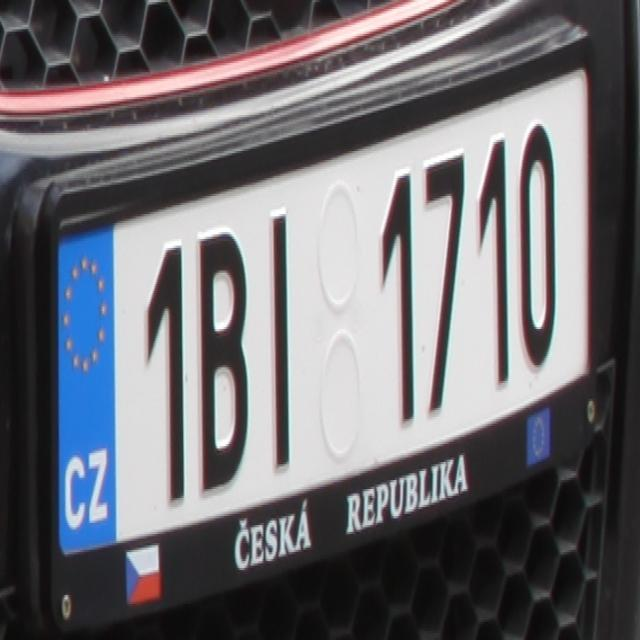0: (517, 115, 559, 370)
1: (141, 239, 188, 505), (379, 167, 417, 430), (476, 133, 512, 383)
7: (422, 153, 466, 417)
B: (196, 228, 250, 492)
